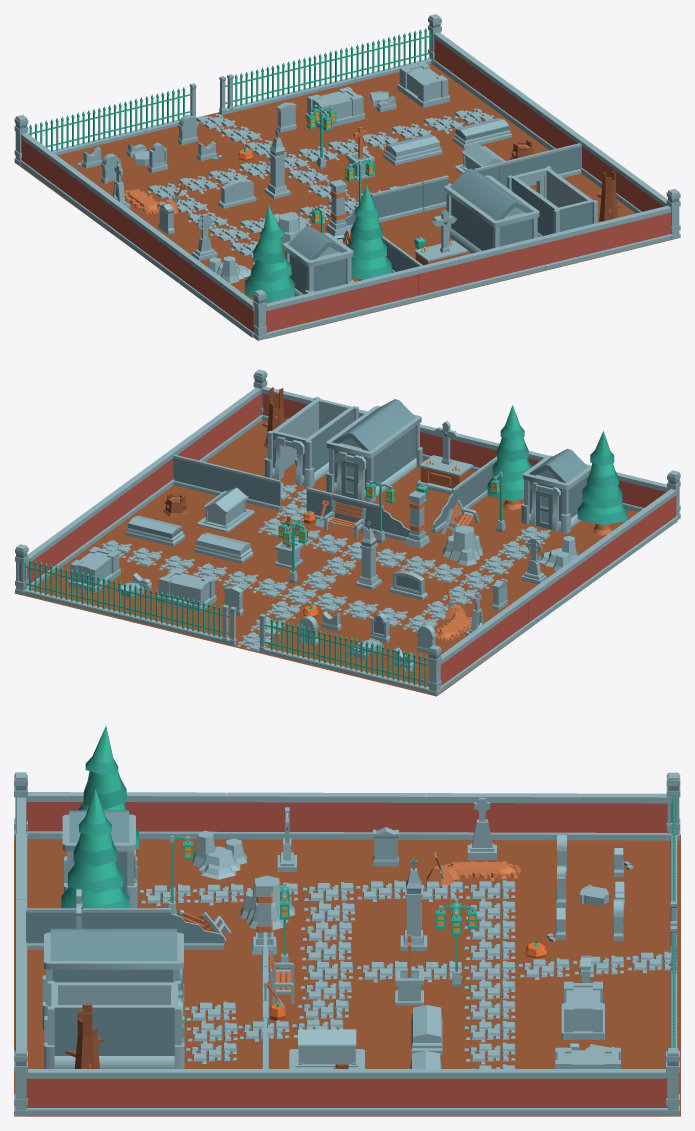
The model's file is cemetery.glb.
3 renders of one model, top to bottom at view 1: azimuth 30°, elevation 25°; view 2: azimuth 150°, elevation 25°; view 3: azimuth 270°, elevation 25°, orthographic. The views are drawn at different scales.
Parts seen in each view (by area): view 1: Plane, cryptLarge.001, cryptLargeRoof, pineCrooked, cryptLarge, pine, cryptSmallRoof, cryptSmall, altarStone, brickWall.003, brickWall.002, brickWall.004 (+58 smaller); view 2: Plane, cryptLarge.001, cryptLargeRoof, pineCrooked, cryptLarge, pine, cryptSmallRoof, altarStone.001, crypt, altarStone, cryptSmall, altarWood (+64 smaller); view 3: Plane, cryptLarge.001, cryptLargeRoof, pine, brickWall.013, brickWall.020, brickWall.026, brickWall, brickWall.021, brickWall.008, brickWall.009, brickWall.011 (+68 smaller).
Part boxes in pixels (x1,y1,x2,y2): Plane: (14,64,671,338); cryptLarge.001: (507,166,597,237); cryptLargeRoof: (444,168,539,227); pineCrooked: (245,204,294,303); cryptLarge: (446,193,537,253); pine: (347,184,391,280); cryptSmallRoof: (282,226,353,267); cryptSmall: (285,251,354,296); altarStone: (397,62,450,107); brickWall.003: (499,236,545,280); brickWall.002: (542,226,587,270); brickWall.004: (457,247,503,290); Plane: (14,420,680,696); cryptLarge.001: (264,396,358,487); cryptLargeRoof: (326,399,421,457); pineCrooked: (577,431,627,535); cryptLarge: (326,423,422,502); pine: (487,405,532,510); cryptSmallRoof: (523,448,591,489); altarStone.001: (157,569,216,611); crypt: (197,487,254,532); altarStone: (68,546,120,592); cryptSmall: (521,475,588,533); altarWood: (416,455,473,494); Plane: (14,834,680,1116); cryptLarge.001: (44,981,184,1068); cryptLargeRoof: (44,928,183,969); pine: (61,789,129,908); brickWall.013: (357,1069,424,1115); brickWall.020: (492,793,558,840); brickWall.026: (293,792,359,839); brickWall: (26,1069,93,1115); brickWall.021: (558,793,624,840); brickWall.008: (93,1069,159,1115); brickWall.009: (159,1069,225,1115); brickWall.011: (490,1069,556,1115).
Size of the model in its own units: 10.03 by 2.36 by 10.
